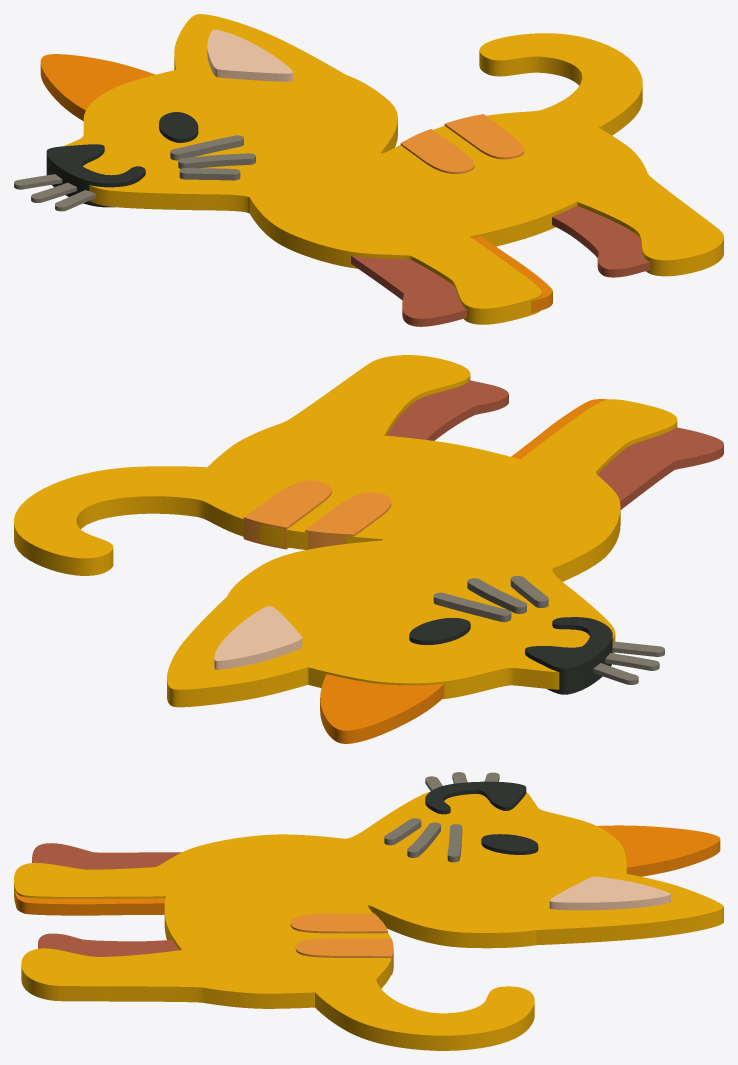
The model's file is emoji_u1f408.glb.
3 views of the same model, one above another, from view 1: azimuth 30°, elevation 25°; view 2: azimuth 150°, elevation 25°; view 3: azimuth 270°, elevation 25° (orthographic). The views are drawn at different scales.
Parts seen in each view (by area): view 1: emoji_u1f408; view 2: emoji_u1f408; view 3: emoji_u1f408.
Part boxes in pixels (<box>): emoji_u1f408: <box>14,14,723,326</box>; emoji_u1f408: <box>14,355,723,743</box>; emoji_u1f408: <box>14,772,723,1050</box>.
Bounding box in the file's own units: 0.0304 × 0.0016 × 0.0339.
